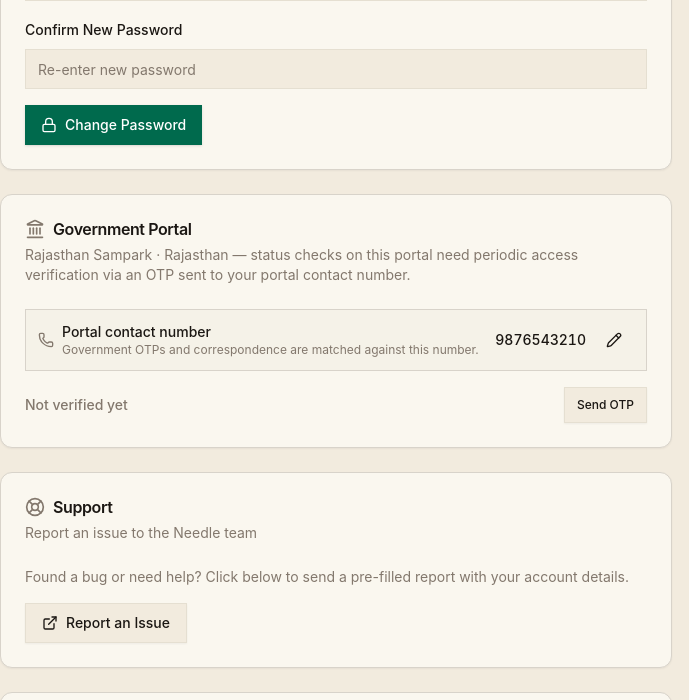
Test: Government portal contact number — editing an existing number › replaces an existing number
The image size is (689, 700).
(page scrolled)
Check: the heading "Government Portal" is shown, box [53, 221, 192, 237]
Check: the text "9876543210" is shown, box [495, 330, 586, 350]
Click the 2nd button at (614, 340), box [594, 322, 634, 358]
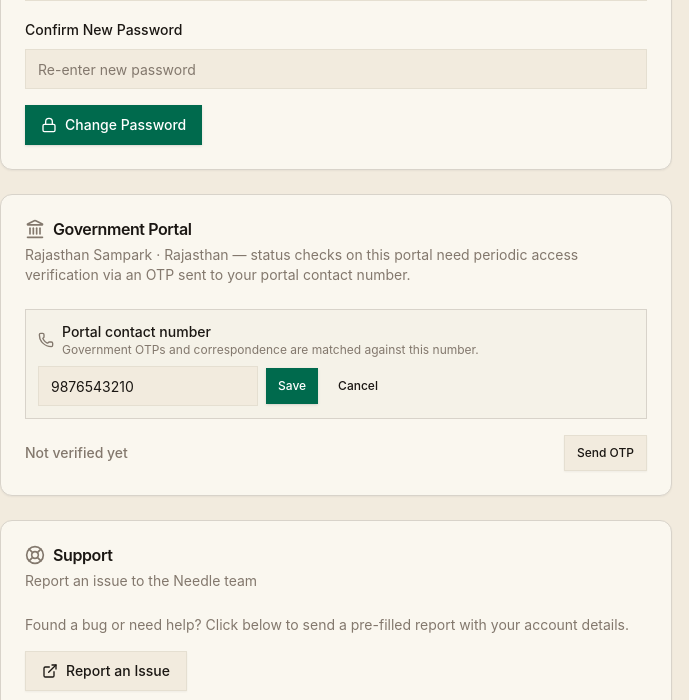
Replace the text in the field with placeholder "10-digit mobile number" with "8123456780" at (148, 386), box [38, 366, 258, 406]
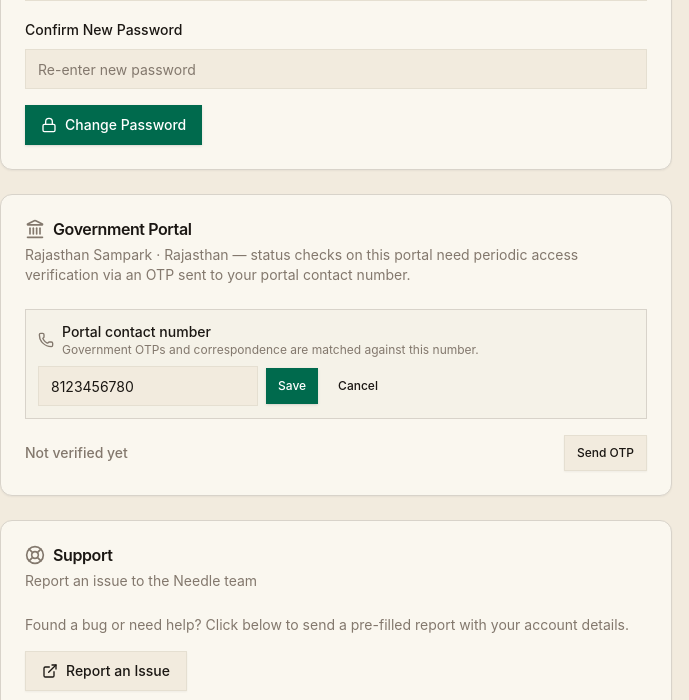
Click the button "Save" at (292, 386), box [266, 368, 318, 404]
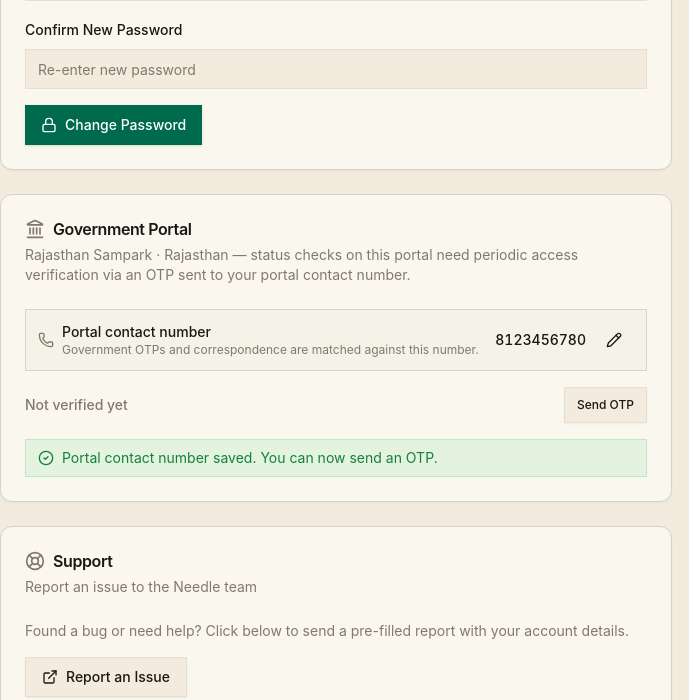
Check: the text "8123456780" is shown, box [495, 330, 586, 350]
